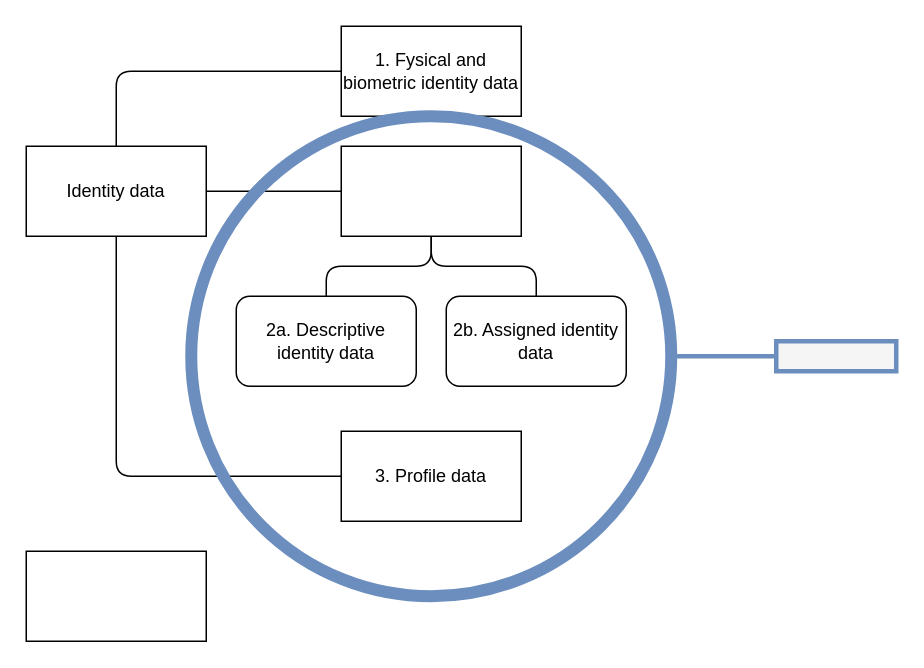
Image size: 924x668. Some labels were removed from this diagram. The shapes that lost their labels are listed below. From the top down, each one's box as (x1, y1, x2, y2) in pixels, then its label:
(340, 145, 521, 236): 2. Formal functional identity data
(773, 338, 898, 373): In scope
(25, 550, 206, 641): Means of identification
